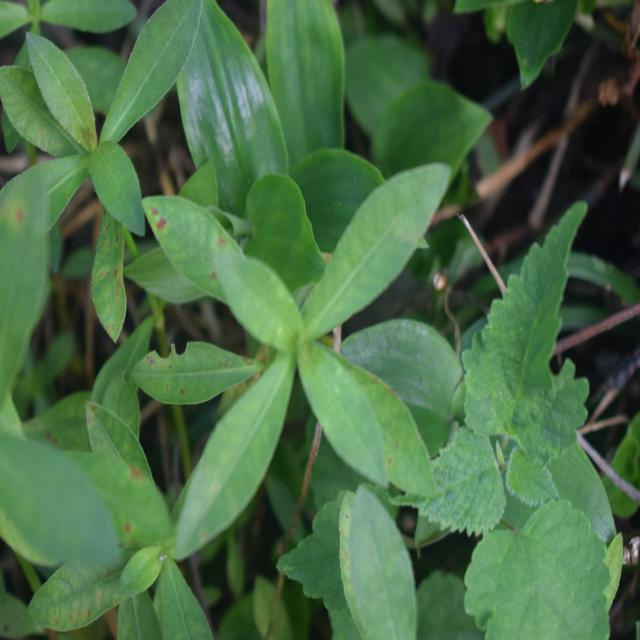Alligatorweed: (142, 160, 428, 499), (18, 2, 218, 261)
